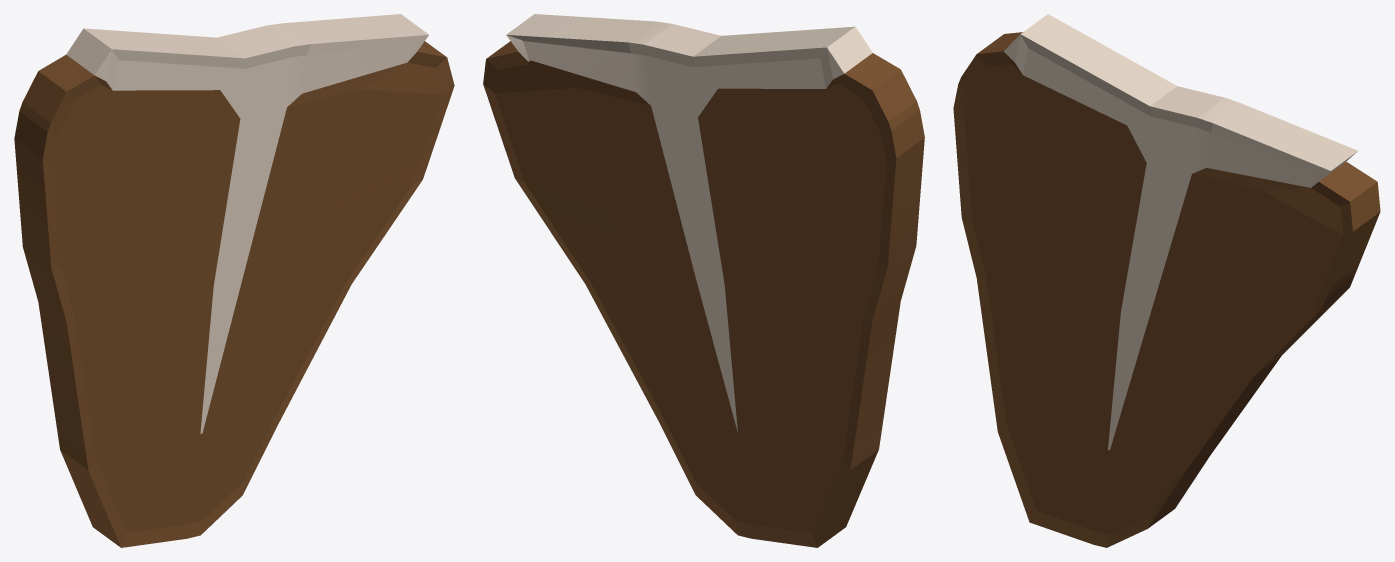
File: TboneStreak2.fbx
3 views of the same model, side by side, from view 1: azimuth 30°, elevation 25°; view 2: azimuth 150°, elevation 25°; view 3: azimuth 330°, elevation 25° (orthographic). The views are drawn at different scales.
Visible parts, largest first — view 1: pCube20; view 2: pCube20; view 3: pCube20.
Boxes of the visible parts, bbox=[...] form: pCube20: bbox=[14, 14, 454, 547]; pCube20: bbox=[483, 14, 924, 547]; pCube20: bbox=[953, 14, 1380, 547].
Bounding box in the file's own units: 4.58 × 5.39 × 0.5901.
